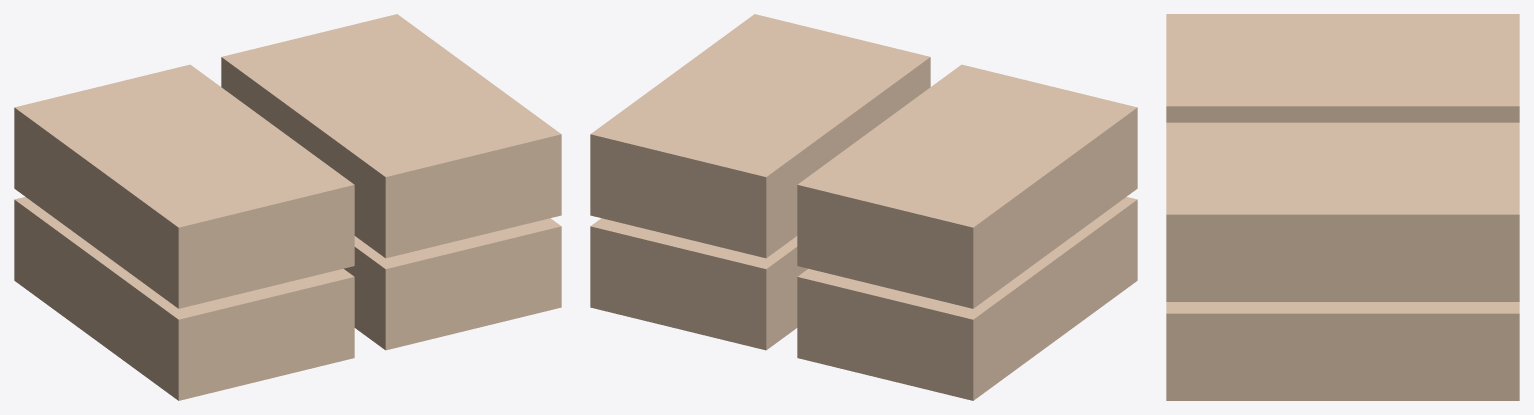
The model's file is supply-timber.glb.
The picture shows the model from 3 angles, left to right: view 1: azimuth 30°, elevation 25°; view 2: azimuth 150°, elevation 25°; view 3: azimuth 270°, elevation 25°; orthographic projection. The views are drawn at different scales.
Visible parts, largest first — view 1: unit2, unit3, unit0, unit1; view 2: unit2, unit3, unit0, unit1; view 3: unit3, unit2, unit1.
Boxes of the visible parts, x1,y1,x2,y2 form: unit2: (14,64,354,308); unit3: (221,14,561,258); unit0: (14,197,354,400); unit1: (344,218,561,350); unit2: (797,64,1137,308); unit3: (590,14,930,258); unit0: (797,197,1137,400); unit1: (590,218,807,350); unit3: (1166,122,1519,301); unit2: (1166,14,1519,122); unit1: (1166,302,1519,400).
Size of the model in its own units: 0.74 by 0.32 by 0.55.
